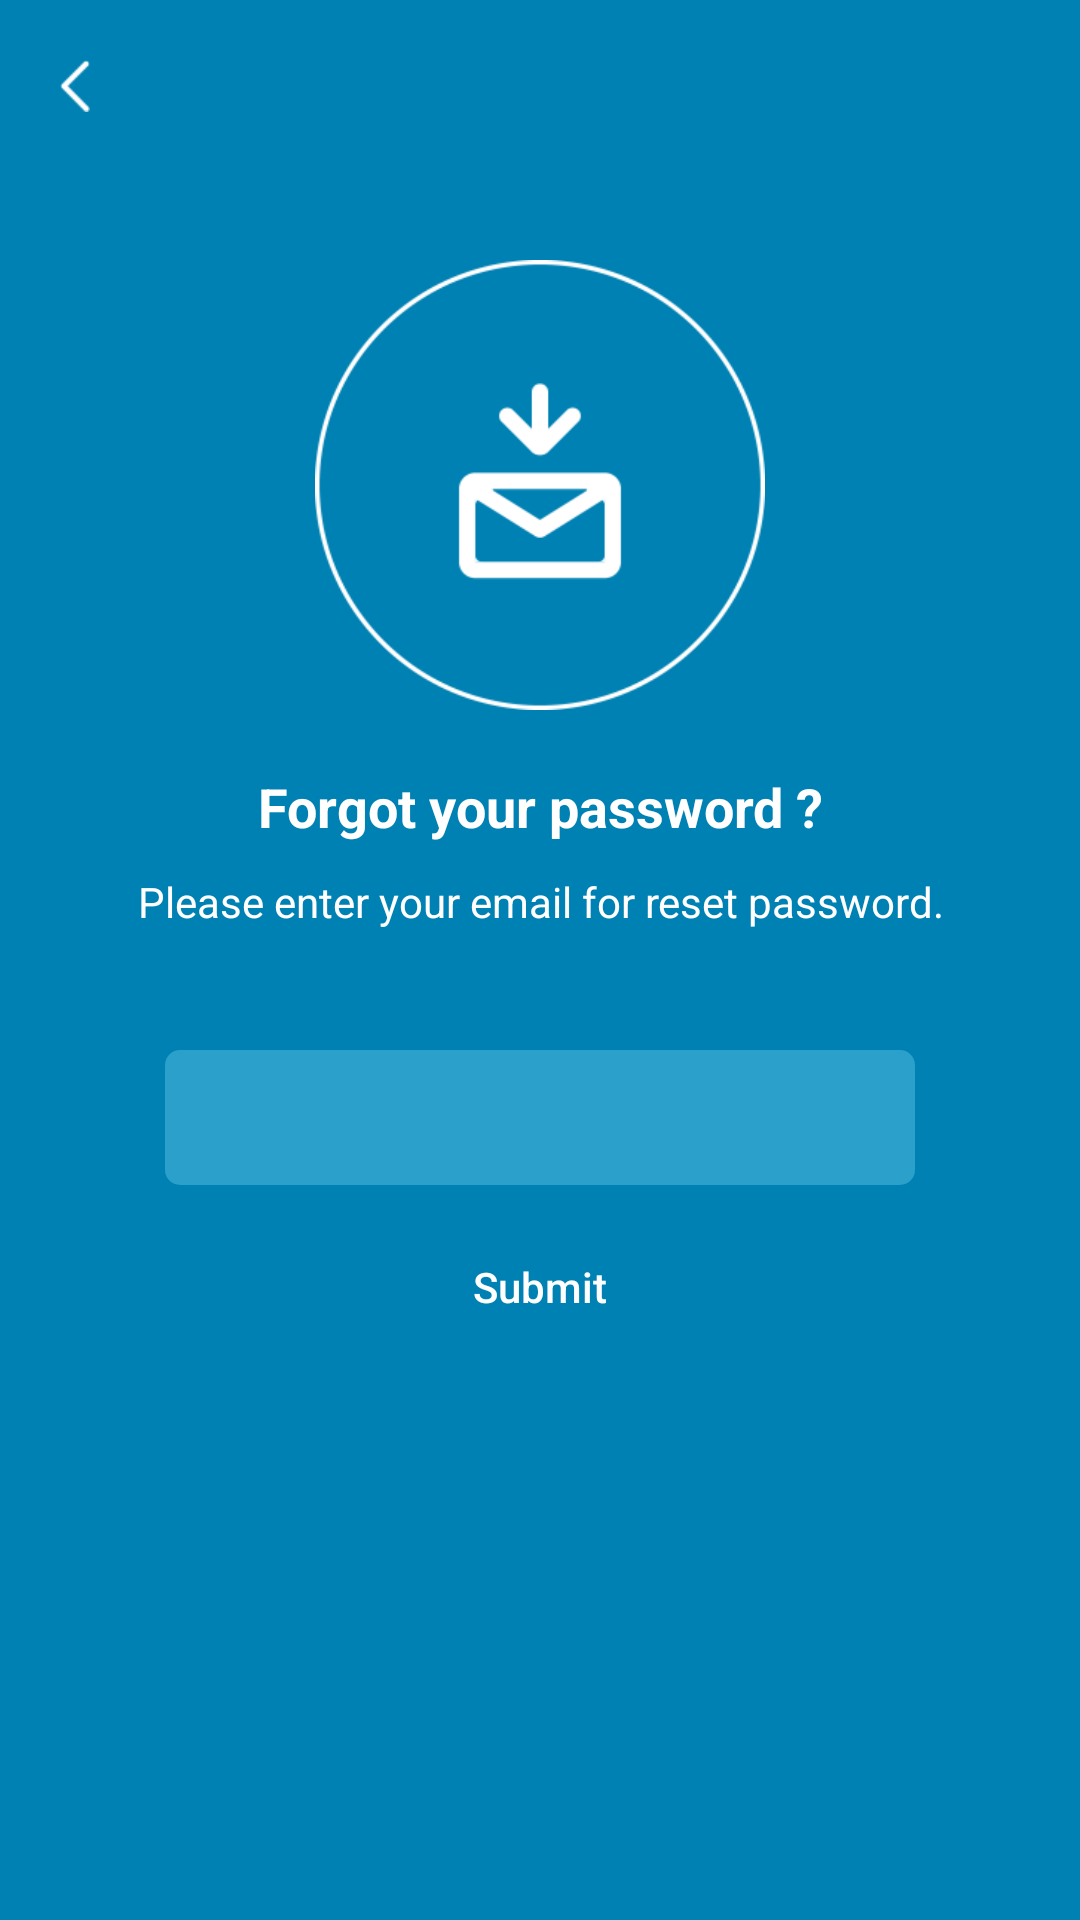

Named icons in this screenshot (1080×1920) and their bounding boxes, [x1,y1,x2,y2]:
back: [60,60,90,112]
